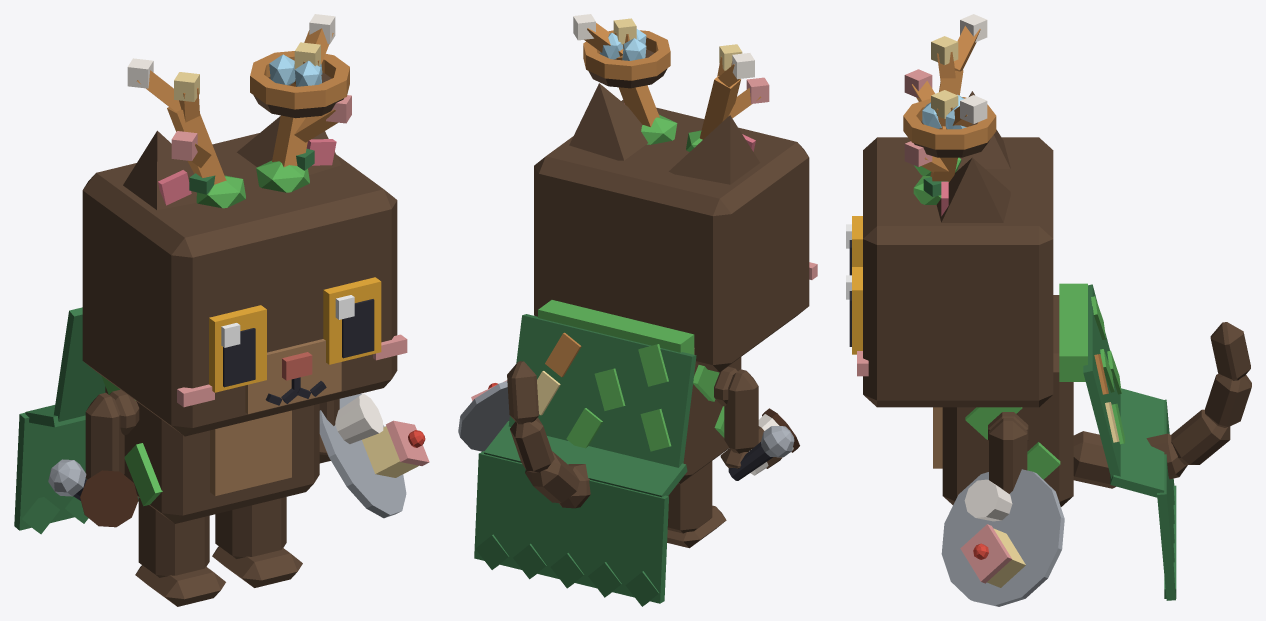
Rendered from CatCafe_Cat_OldOak_Work.glb.
3 views of the same model, side by side, from view 1: azimuth 30°, elevation 25°; view 2: azimuth 150°, elevation 25°; view 3: azimuth 270°, elevation 25° (orthographic). The views are drawn at different scales.
Visible parts, largest first — view 1: CatCafe_Cat_OldOak_Work_Head, CatCafe_Cat_OldOak_Work_Body, CatCafe_Cat_OldOak_Work_Prop, CatCafe_Cat_OldOak_Work_Prop2, CatCafe_Cat_OldOak_Work_Held_Waiter, CatCafe_Cat_OldOak_Work_LegB2, CatCafe_Cat_OldOak_Work_LegB1, CatCafe_Cat_OldOak_Work_Eye1, CatCafe_Cat_OldOak_Work_Eye2, CatCafe_Cat_OldOak_Work_EarR, CatCafe_Cat_OldOak_Work_LegF2, CatCafe_Cat_OldOak_Work_Held_Barista (+3 smaller); view 2: CatCafe_Cat_OldOak_Work_Head, CatCafe_Cat_OldOak_Work_Prop2, CatCafe_Cat_OldOak_Work_Prop, CatCafe_Cat_OldOak_Work_Tail, CatCafe_Cat_OldOak_Work_Body, CatCafe_Cat_OldOak_Work_EarL, CatCafe_Cat_OldOak_Work_EarR, CatCafe_Cat_OldOak_Work_LegB2, CatCafe_Cat_OldOak_Work_LegF2, CatCafe_Cat_OldOak_Work_Held_Waiter, CatCafe_Cat_OldOak_Work_Held_Entertainer, CatCafe_Cat_OldOak_Work_Held_Barista; view 3: CatCafe_Cat_OldOak_Work_Head, CatCafe_Cat_OldOak_Work_Prop2, CatCafe_Cat_OldOak_Work_Held_Waiter, CatCafe_Cat_OldOak_Work_Body, CatCafe_Cat_OldOak_Work_Prop, CatCafe_Cat_OldOak_Work_Tail, CatCafe_Cat_OldOak_Work_EarL, CatCafe_Cat_OldOak_Work_LegF1, CatCafe_Cat_OldOak_Work_Eye1, CatCafe_Cat_OldOak_Work_EarR, CatCafe_Cat_OldOak_Work_Eye2.
Part boxes in pixels (left/top/right/bottom): CatCafe_Cat_OldOak_Work_Head: left=82, top=133, right=407, bottom=436; CatCafe_Cat_OldOak_Work_Body: left=101, top=375, right=319, bottom=523; CatCafe_Cat_OldOak_Work_Prop: left=127, top=14, right=351, bottom=208; CatCafe_Cat_OldOak_Work_Prop2: left=14, top=307, right=138, bottom=534; CatCafe_Cat_OldOak_Work_Held_Waiter: left=319, top=393, right=429, bottom=518; CatCafe_Cat_OldOak_Work_LegB2: left=135, top=498, right=225, bottom=606; CatCafe_Cat_OldOak_Work_LegB1: left=212, top=497, right=302, bottom=587; CatCafe_Cat_OldOak_Work_Eye1: left=323, top=277, right=381, bottom=364; CatCafe_Cat_OldOak_Work_Eye2: left=209, top=305, right=266, bottom=392; CatCafe_Cat_OldOak_Work_EarR: left=123, top=130, right=196, bottom=210; CatCafe_Cat_OldOak_Work_LegF2: left=85, top=392, right=124, bottom=479; CatCafe_Cat_OldOak_Work_Held_Barista: left=80, top=470, right=138, bottom=527; CatCafe_Cat_OldOak_Work_Head: left=534, top=100, right=817, bottom=372; CatCafe_Cat_OldOak_Work_Prop2: left=474, top=300, right=696, bottom=606; CatCafe_Cat_OldOak_Work_Prop: left=573, top=14, right=769, bottom=151; CatCafe_Cat_OldOak_Work_Tail: left=507, top=361, right=590, bottom=508; CatCafe_Cat_OldOak_Work_Body: left=678, top=348, right=741, bottom=483; CatCafe_Cat_OldOak_Work_EarL: left=569, top=83, right=647, bottom=160; CatCafe_Cat_OldOak_Work_EarR: left=669, top=115, right=759, bottom=184; CatCafe_Cat_OldOak_Work_LegB2: left=667, top=461, right=726, bottom=548; CatCafe_Cat_OldOak_Work_LegF2: left=720, top=369, right=758, bottom=468; CatCafe_Cat_OldOak_Work_Held_Waiter: left=458, top=380, right=509, bottom=451; CatCafe_Cat_OldOak_Work_Held_Entertainer: left=728, top=426, right=794, bottom=480; CatCafe_Cat_OldOak_Work_Held_Barista: left=749, top=408, right=799, bottom=475; CatCafe_Cat_OldOak_Work_Head: left=857, top=137, right=1053, bottom=407; CatCafe_Cat_OldOak_Work_Prop2: left=1059, top=283, right=1176, bottom=600; CatCafe_Cat_OldOak_Work_Held_Waiter: left=941, top=469, right=1064, bottom=606; CatCafe_Cat_OldOak_Work_Body: left=933, top=295, right=1073, bottom=506; CatCafe_Cat_OldOak_Work_Prop: left=903, top=14, right=996, bottom=204; CatCafe_Cat_OldOak_Work_Tail: left=1073, top=322, right=1251, bottom=488; CatCafe_Cat_OldOak_Work_EarL: left=936, top=157, right=1010, bottom=222; CatCafe_Cat_OldOak_Work_LegF1: left=989, top=418, right=1027, bottom=493; CatCafe_Cat_OldOak_Work_Eye1: left=846, top=267, right=862, bottom=354; CatCafe_Cat_OldOak_Work_EarR: left=958, top=91, right=1010, bottom=168; CatCafe_Cat_OldOak_Work_Eye2: left=846, top=216, right=862, bottom=275.
Bounding box in the file's own units: 1.53 × 2.21 × 1.62.
Materials: 1 (1 with a texture image).
